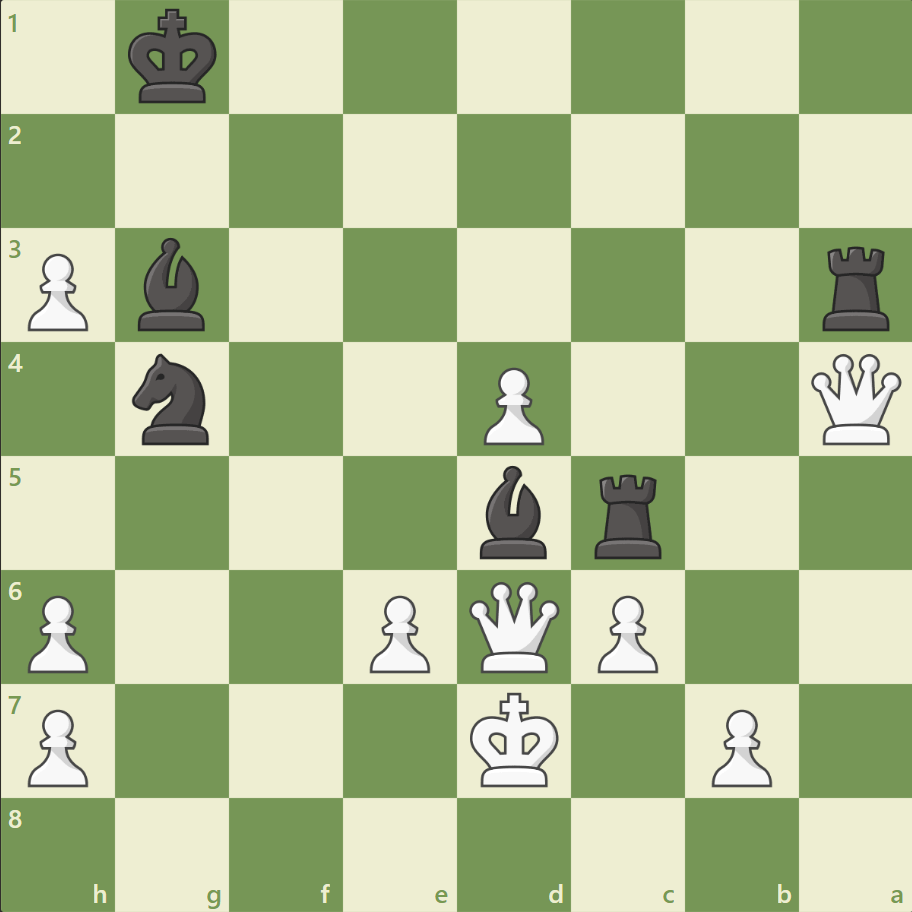K: (465, 685, 565, 793)
P: (701, 700, 776, 791), (20, 700, 95, 791), (20, 586, 95, 677), (474, 359, 549, 450), (20, 246, 95, 337), (588, 586, 662, 677), (361, 586, 435, 677)
Q: (464, 576, 563, 676), (805, 349, 904, 449)
b: (471, 460, 555, 563), (131, 233, 215, 336)
k: (124, 4, 224, 112)
n: (124, 348, 222, 450)
r: (587, 466, 670, 563), (814, 239, 897, 336)
